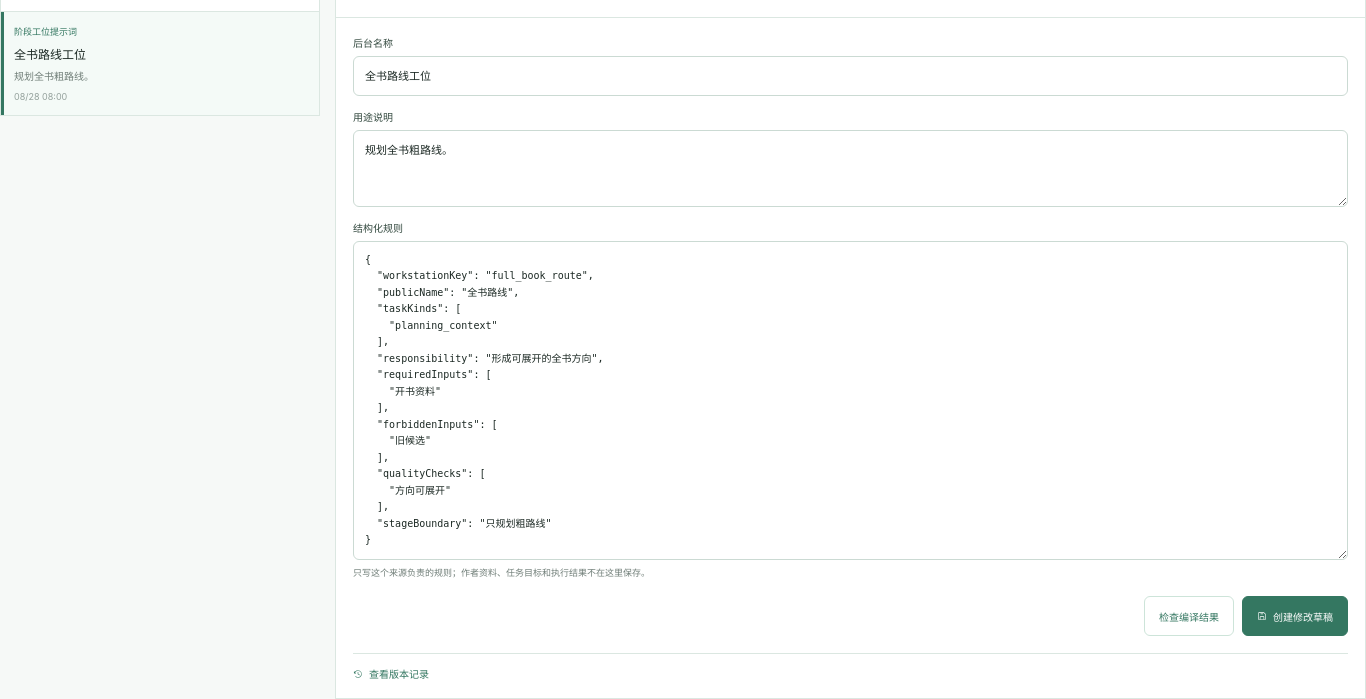
Test: 提示词与上下文中心 › 历史发布版本只能恢复成新草稿，不直接覆盖当前版本
(page scrolled)
Click the heading "查看版本记录". click: click(391, 674)
box: [353, 668, 429, 680]
(page scrolled)
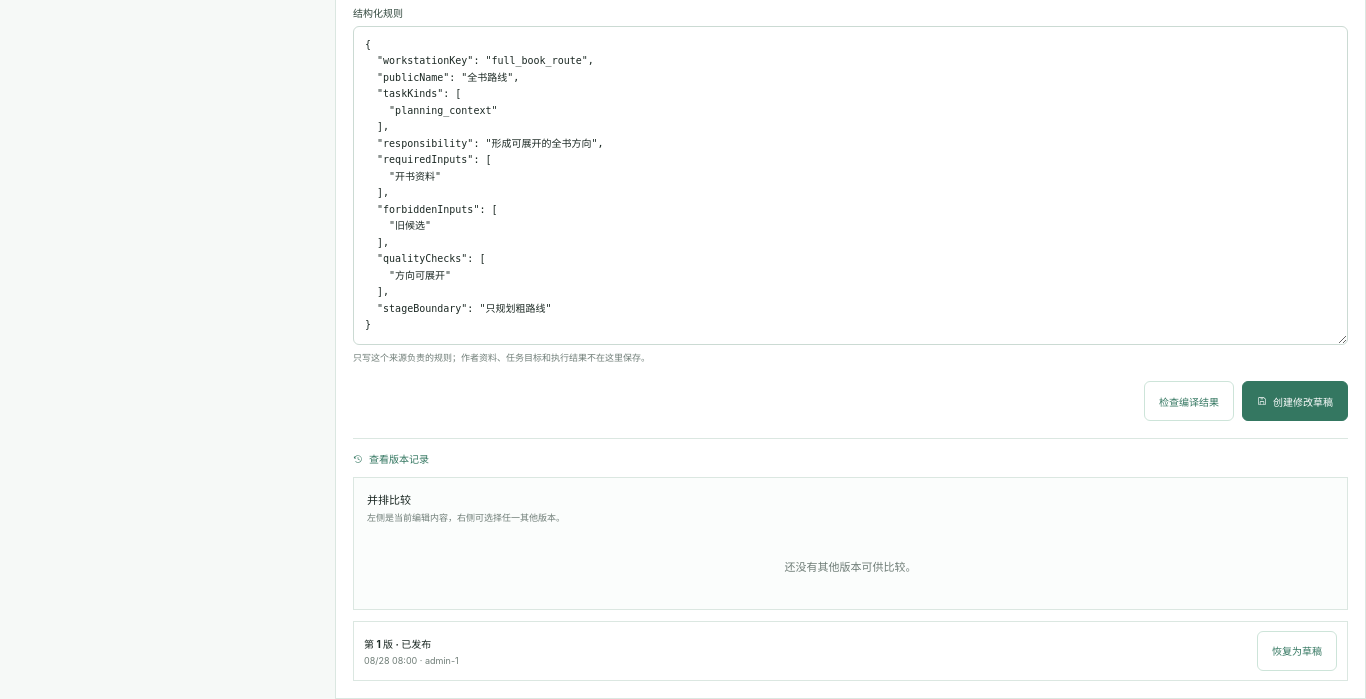
Click the button "恢复为草稿". click: click(1297, 651)
box: [1257, 631, 1337, 671]
(page scrolled)
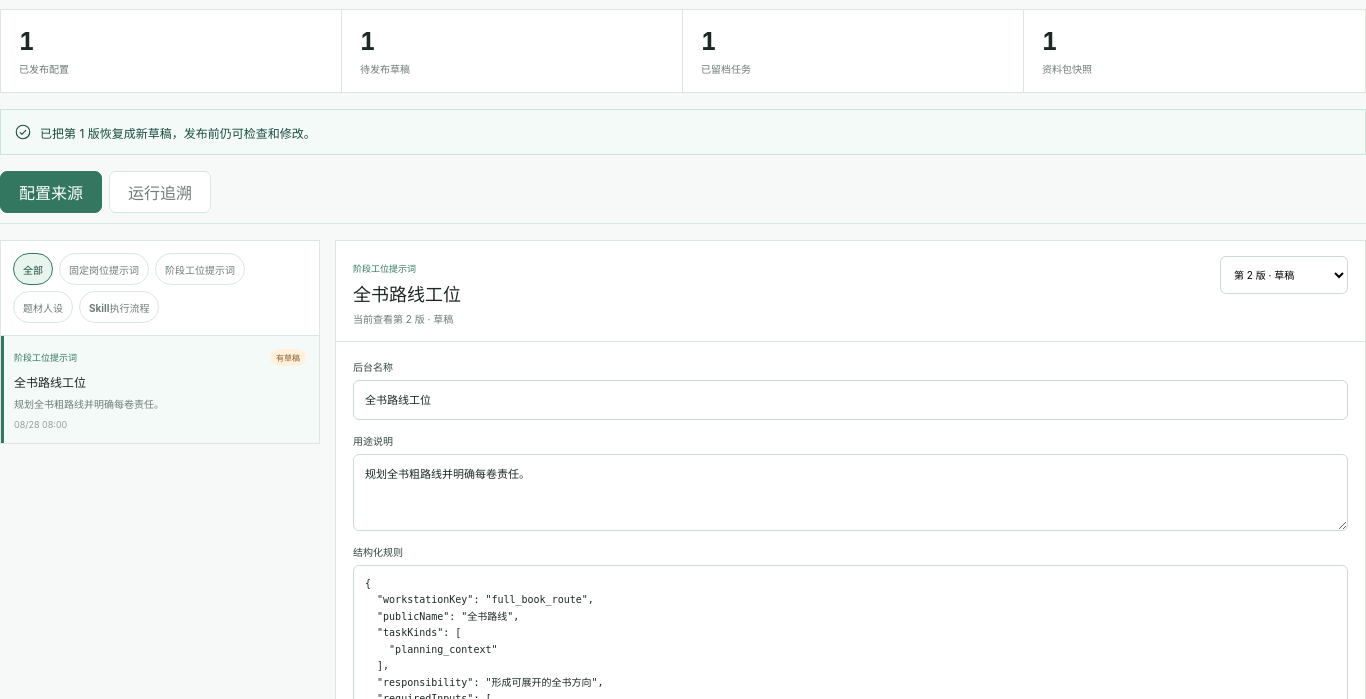
Expected: the heading "全书路线工位" is shown, [353, 280, 461, 306]
Now the text "已把第 1 版恢复成新草稿，发布前仍可检查和修改。" is shown, box [40, 124, 316, 140]
